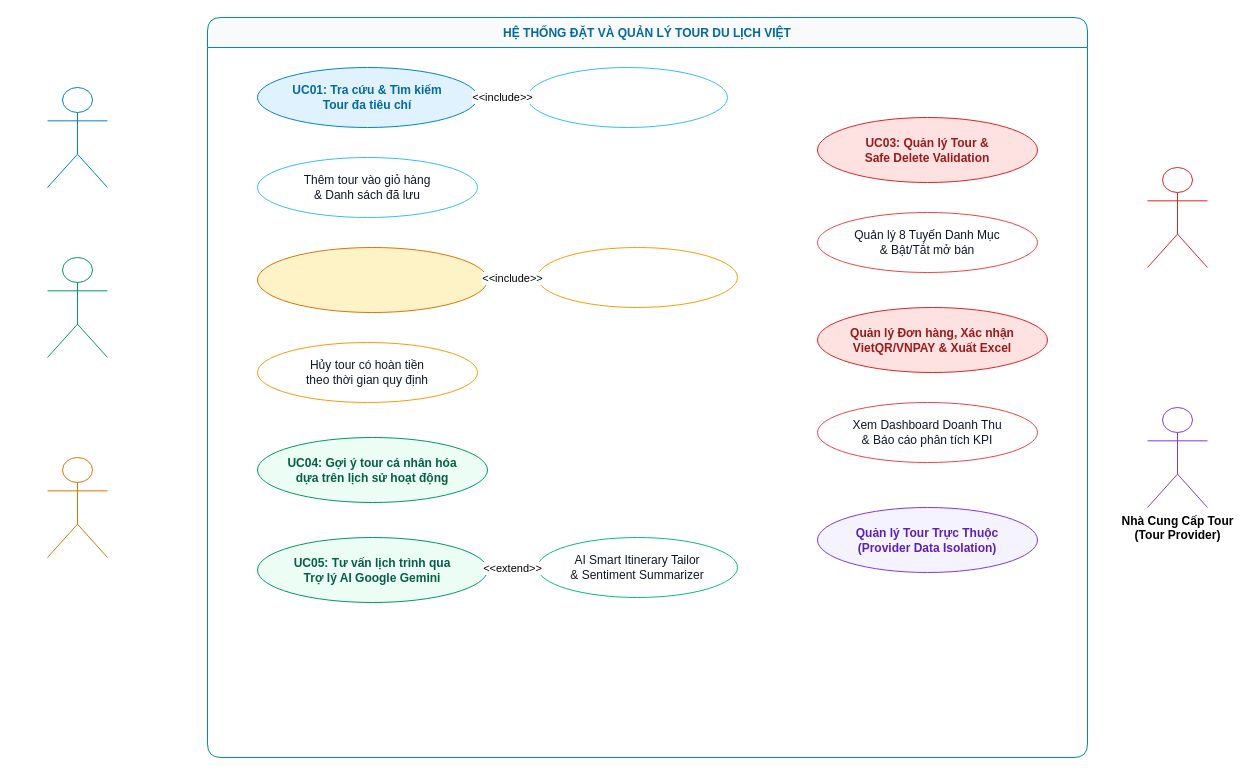
The diagram is 1251 pixels wide and 776 high, and some of its shapes have lost their labels. The shapes that lost their labels are listed below. From the top down, each one's centre as x and y in pixels, then its label:
point 627,97: Xem chi tiết lịch trình, timeline & ảnh thực tế
point 77,137: Khách Vãng Lai (Guest)
point 1177,217: Quản Trị Viên (Administrator)
point 372,279: UC02: Đặt tour trực tuyến & Chiết khấu đoàn B2B
point 637,277: Đặt cọc linh hoạt (30% Nội Địa, 50% Quốc Tế)
point 77,307: Khách Hàng (Customer)
point 77,507: Khách Doanh Nghiệp (B2B Customer)
